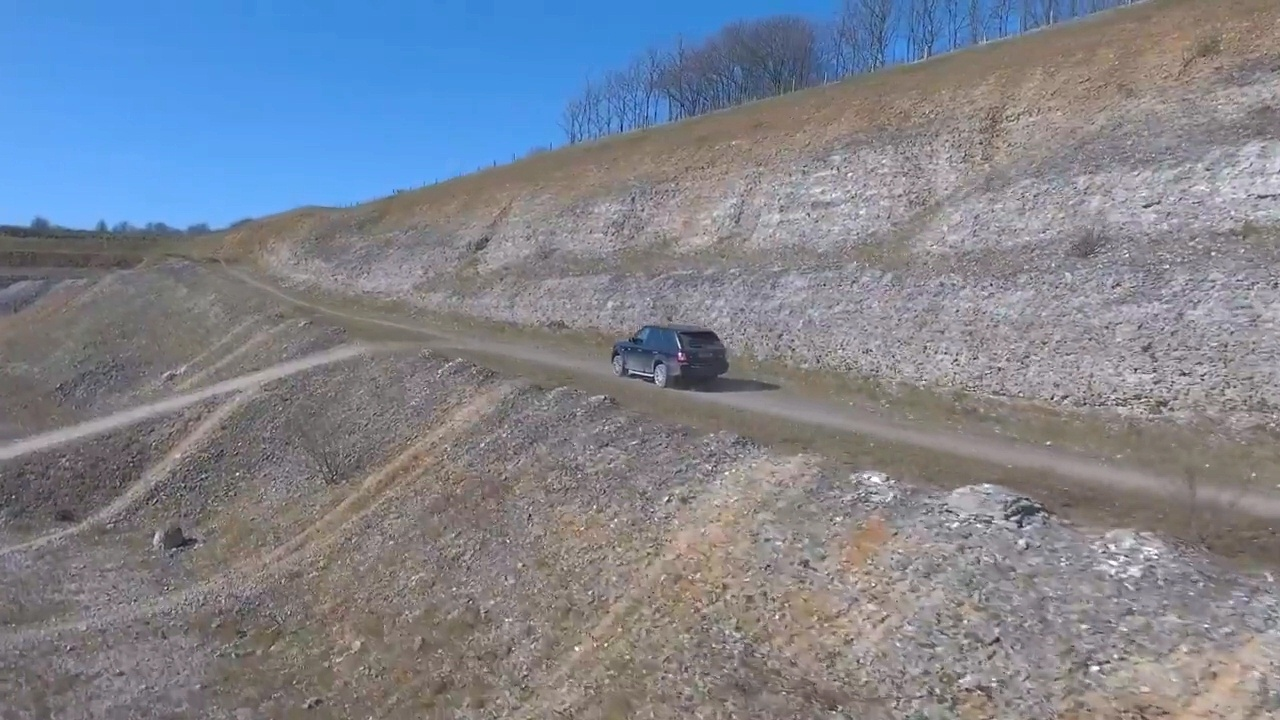araba: (606, 315, 730, 393)
